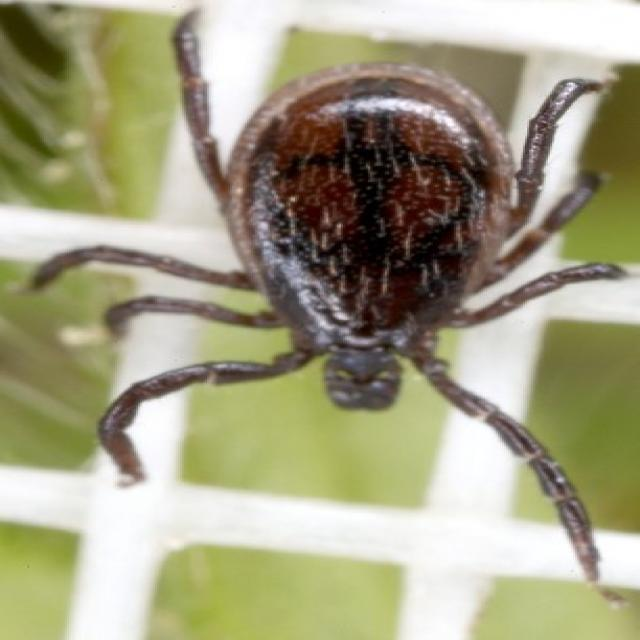Ixodes Ricinus-M: (25, 8, 640, 586)
